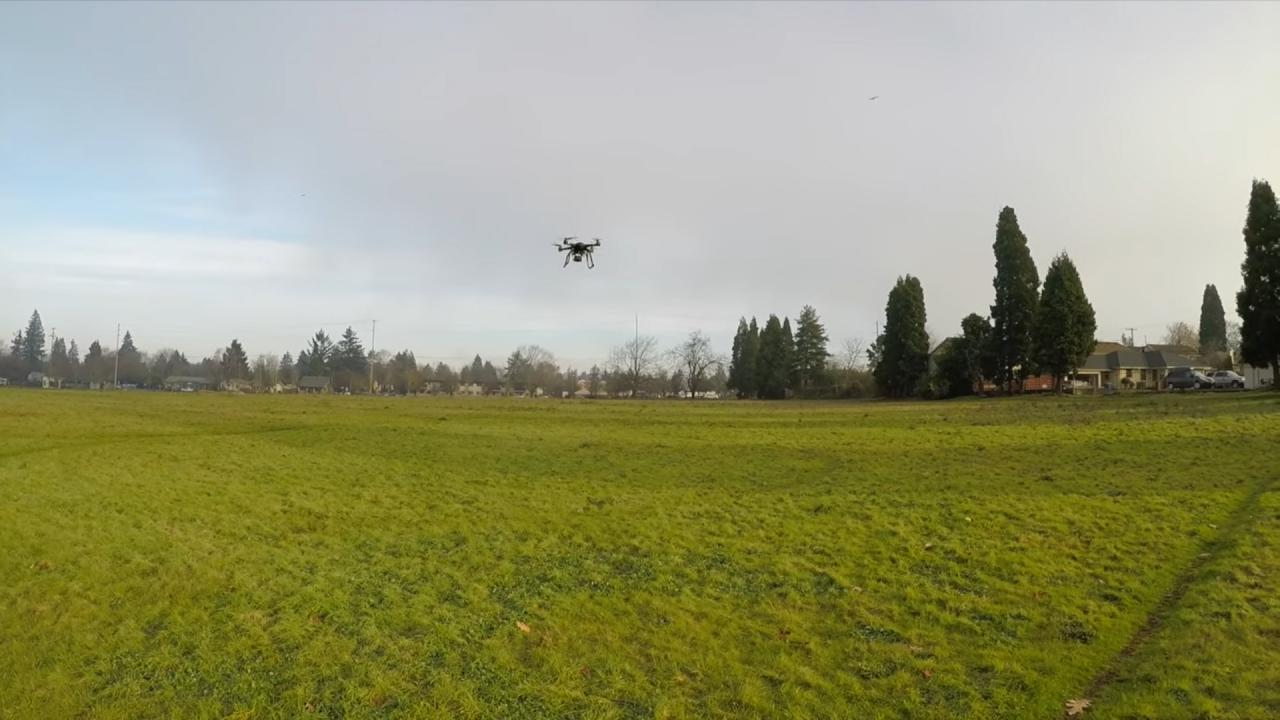Drone: (543, 228, 611, 278)
